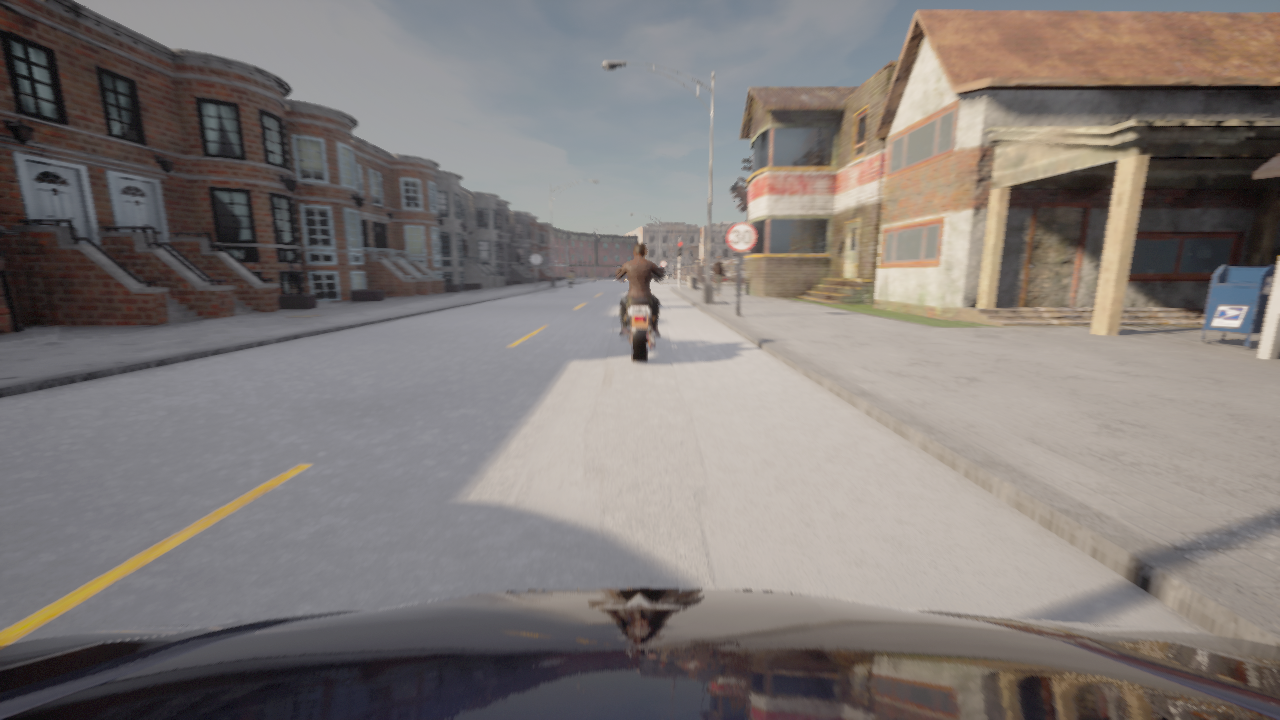cyclist: (0, 588, 1279, 719), (615, 266, 664, 361), (565, 272, 575, 289), (710, 276, 729, 284)
pedestrian: (713, 255, 724, 295)
